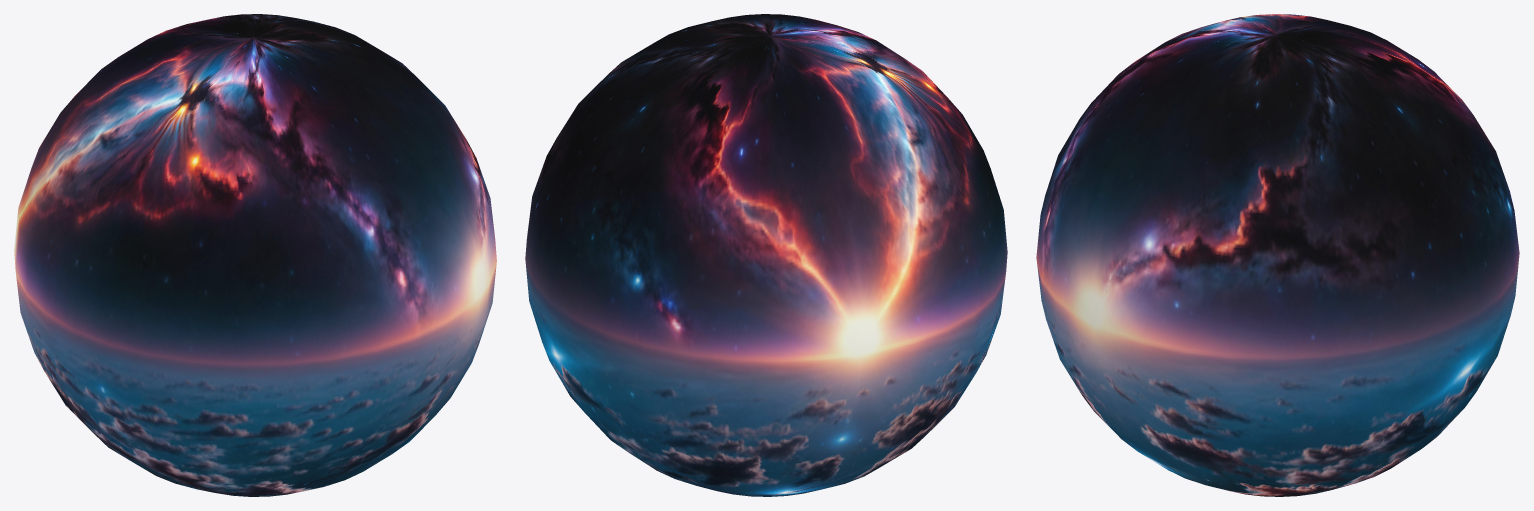
File: deep_space_nebula_skybox.glb
3 views of the same model, side by side, from view 1: azimuth 30°, elevation 25°; view 2: azimuth 150°, elevation 25°; view 3: azimuth 270°, elevation 25° (orthographic).
Visible parts, largest first — view 1: Sphere; view 2: Sphere; view 3: Sphere.
Part boxes in pixels (x1,y1,x2,y2): Sphere: (14,14,496,496); Sphere: (525,14,1007,496); Sphere: (1036,14,1519,496).
Bounding box in the file's own units: 155 × 155 × 155.
Materials: 1 (1 with a texture image).
